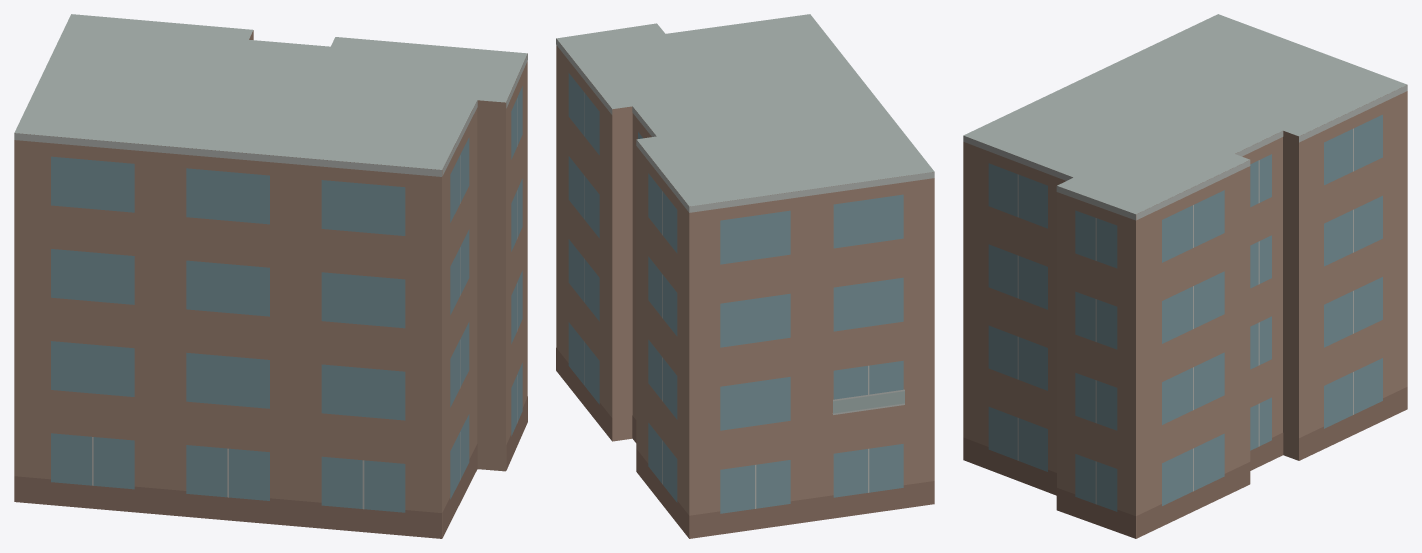
Rendered from survey-upis-32617667.glb.
The picture shows the model from 3 angles, left to right: view 1: azimuth 30°, elevation 25°; view 2: azimuth 150°, elevation 25°; view 3: azimuth 270°, elevation 25°; orthographic projection. The views are drawn at different scales.
Visible parts, largest first — view 1: survey-upis-32617667.tmp; view 2: survey-upis-32617667.tmp; view 3: survey-upis-32617667.tmp.
Part boxes in pixels (box(x1,y1,x2,y2)): survey-upis-32617667.tmp: box(14, 14, 527, 538); survey-upis-32617667.tmp: box(556, 14, 934, 538); survey-upis-32617667.tmp: box(963, 14, 1407, 538).
Bounding box in the file's own units: 16.96 × 12.8 × 15.89.
